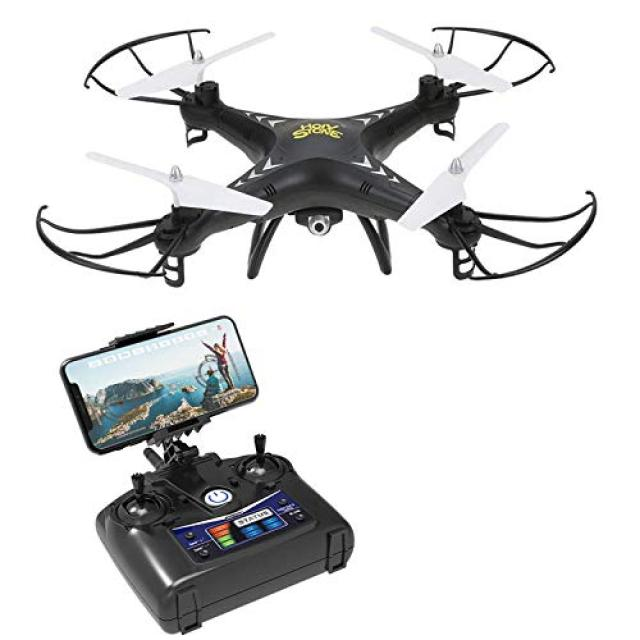drone: (24, 25, 618, 318)
